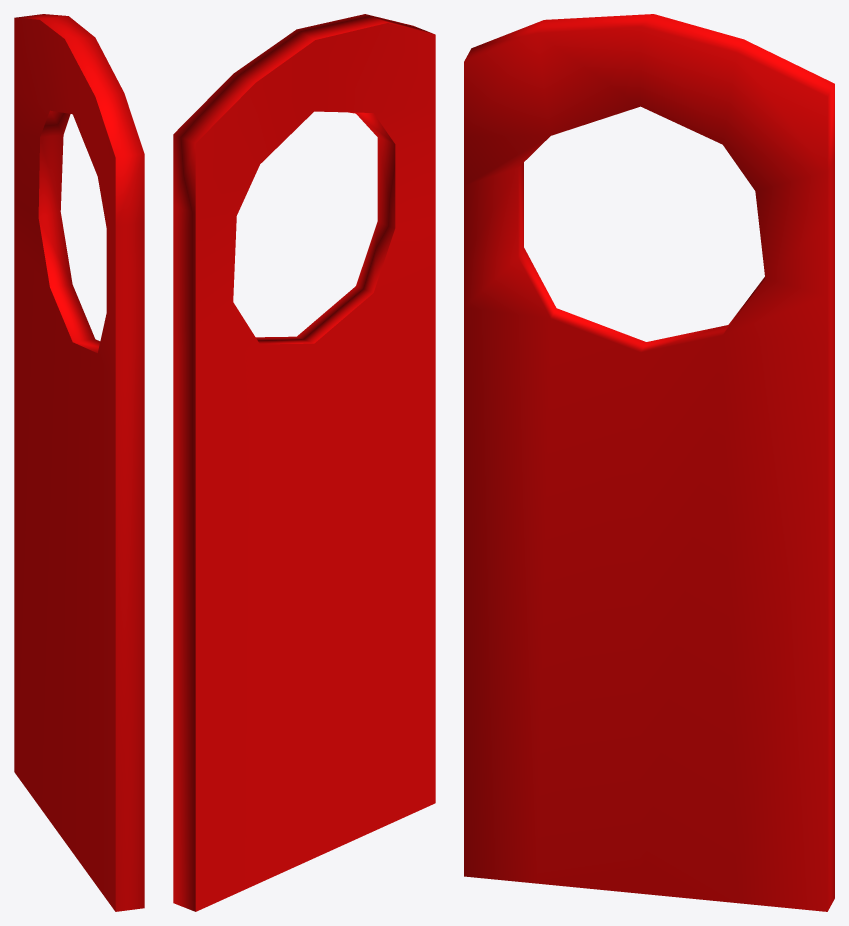
The model's file is WitchShop_Door.fbx.
The picture shows the model from 3 angles, left to right: view 1: azimuth 30°, elevation 25°; view 2: azimuth 150°, elevation 25°; view 3: azimuth 270°, elevation 25°; orthographic projection. The views are drawn at different scales.
Visible parts, largest first — view 1: Door; view 2: Door; view 3: Door.
Part boxes in pixels (bbox=[...]): Door: bbox=[14, 14, 144, 911]; Door: bbox=[173, 14, 435, 911]; Door: bbox=[464, 14, 834, 911].
Size of the model in its own units: 25.24 by 209 by 80.85.
